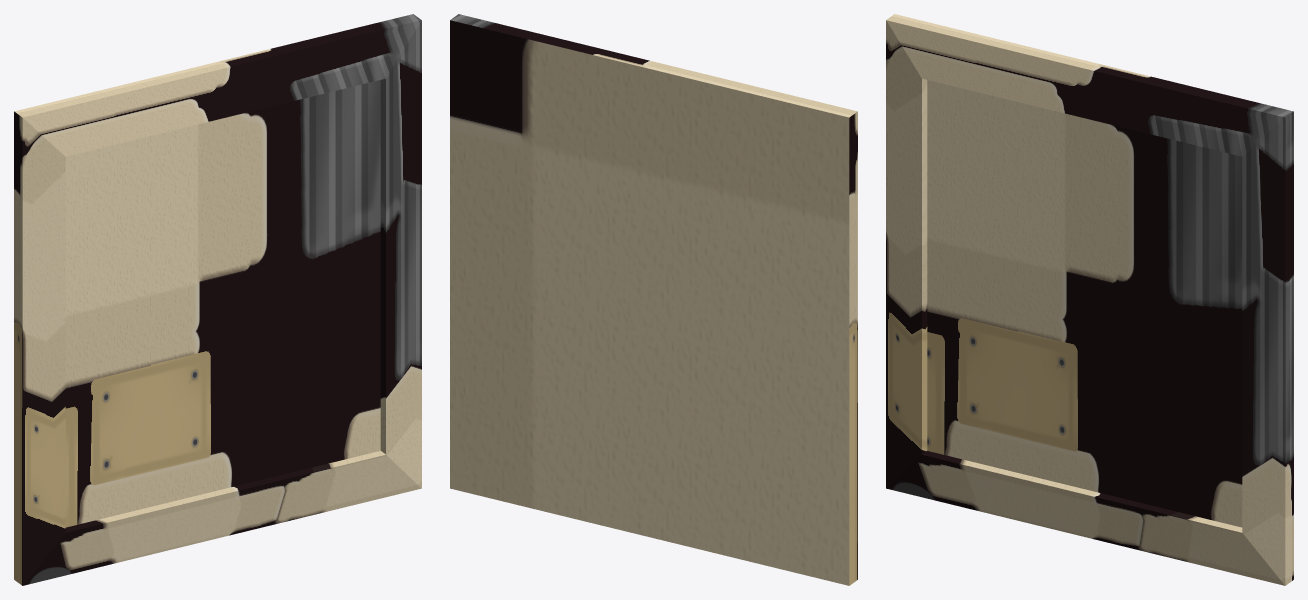
The model's file is Picture1.FBX.
3 renders of one model, left to right at view 1: azimuth 30°, elevation 25°; view 2: azimuth 150°, elevation 25°; view 3: azimuth 330°, elevation 25°, orthographic.
Parts seen in each view (by area): view 1: picture1; view 2: picture1; view 3: picture1.
Part boxes in pixels (bbox=[...]): picture1: bbox=[14, 14, 421, 585]; picture1: bbox=[450, 14, 857, 585]; picture1: bbox=[886, 14, 1293, 585].
Bounding box in the file's own units: 16.96 × 19.01 × 0.8884.
Materials: 1 (1 with a texture image).
